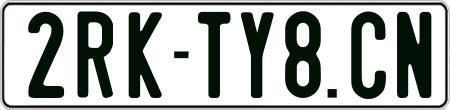2: (28, 12, 67, 104)
8: (283, 11, 325, 102)
C: (349, 10, 388, 100)
K: (127, 9, 166, 99)
N: (394, 9, 434, 96)
R: (77, 11, 117, 102)
T: (197, 11, 234, 100)
Y: (238, 10, 273, 102)
